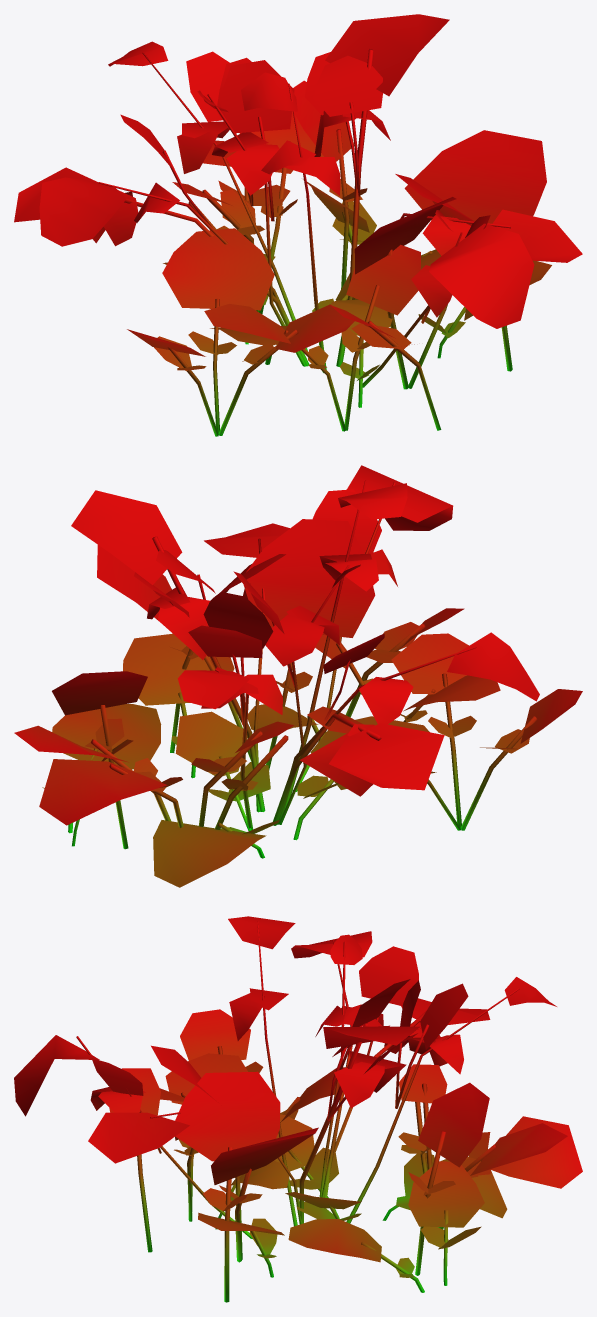
File: SM_Coriander_11.fbx
The picture shows the model from 3 angles, top to bottom: view 1: azimuth 30°, elevation 25°; view 2: azimuth 150°, elevation 25°; view 3: azimuth 270°, elevation 25°; orthographic projection. The views are drawn at different scales.
Parts seen in each view (by area): view 1: _81ns_Var12_LOD3; view 2: _81ns_Var12_LOD3; view 3: _81ns_Var12_LOD3.
Part boxes in pixels (x1=…): _81ns_Var12_LOD3: x1=14, y1=14, x2=582, y2=436; _81ns_Var12_LOD3: x1=14, y1=465, x2=582, y2=887; _81ns_Var12_LOD3: x1=14, y1=916, x2=582, y2=1302.
Size of the model in its own units: 20.13 by 13.52 by 23.88.
